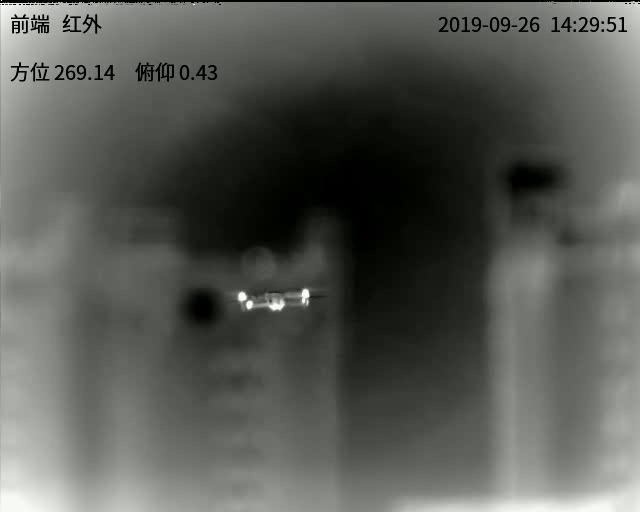DRONE: (236, 285, 314, 314)
